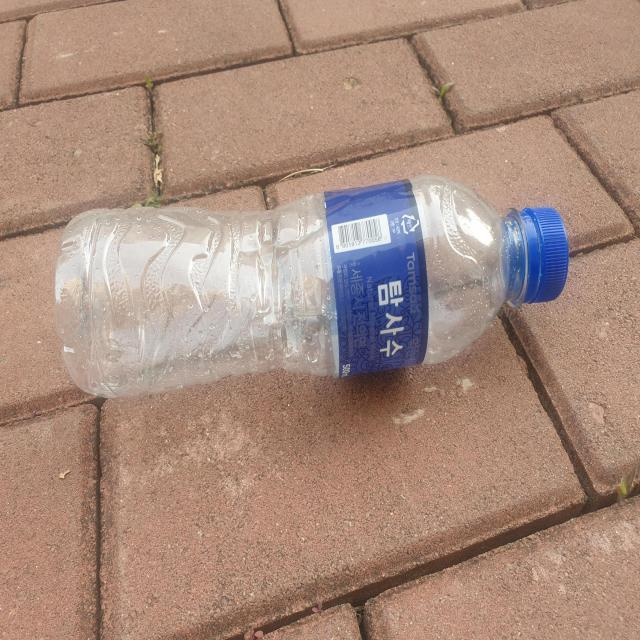plastic: (54, 174, 570, 398)
